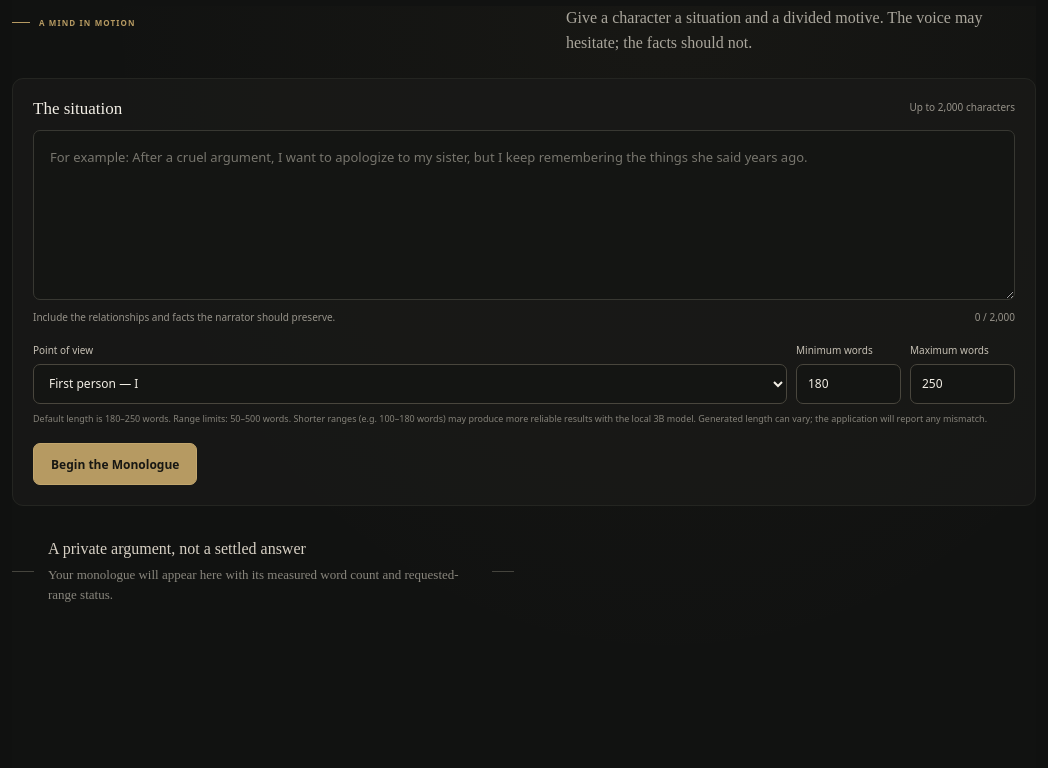
Scenario: InnerMonologue component › renders successful monologue output and word count information
Type "A clerk considers confessing an error." into the text box labelled "The situation Up to 2,000 characters".
click(524, 215); type("A clerk considers confessing an error.")  # box [33,130,1015,300]
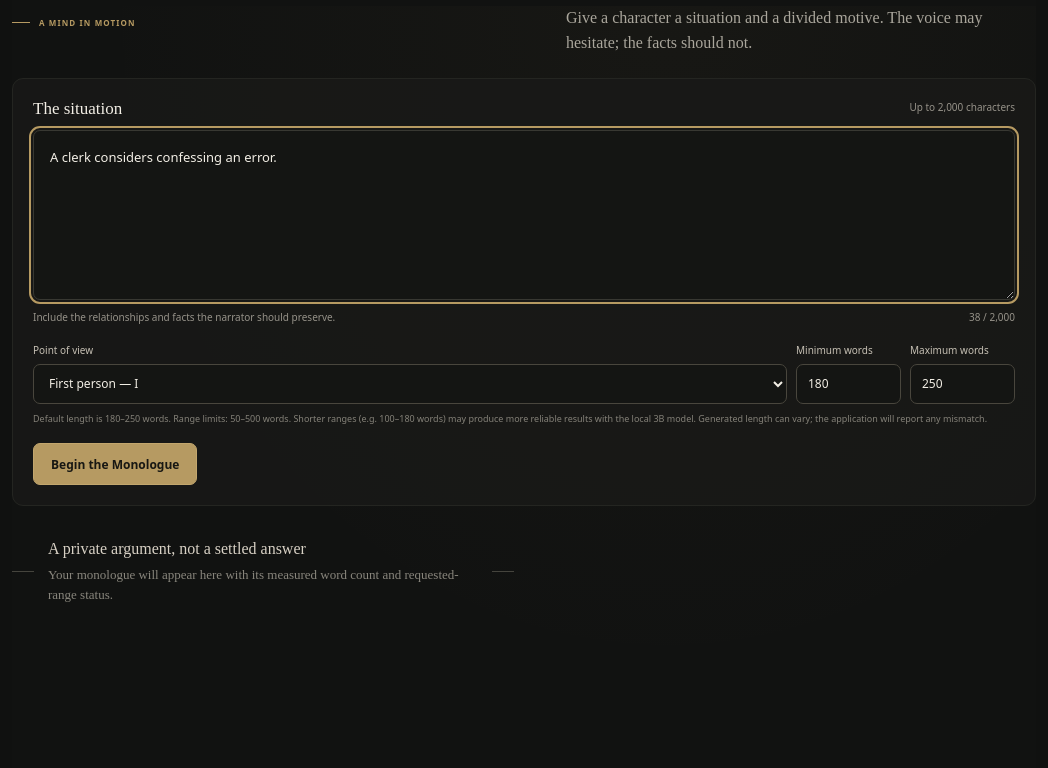
Click the button "Begin the Monologue".
click(115, 464)  # box [33,443,197,485]
(page scrolled)
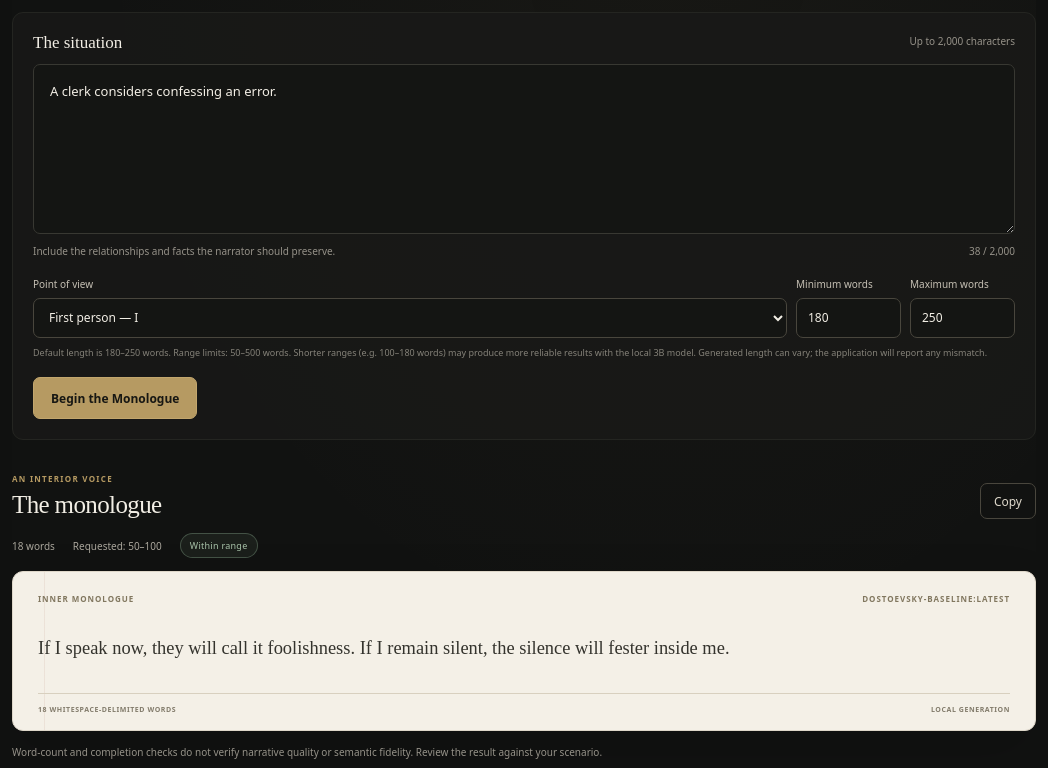
Now the text "If I speak now, they will call it foolishness" is shown, box [38,638,730,658]
Now the text "18 words" is shown, box [12,539,55,553]
Now the text "Within range" is shown, box [180,533,258,558]
